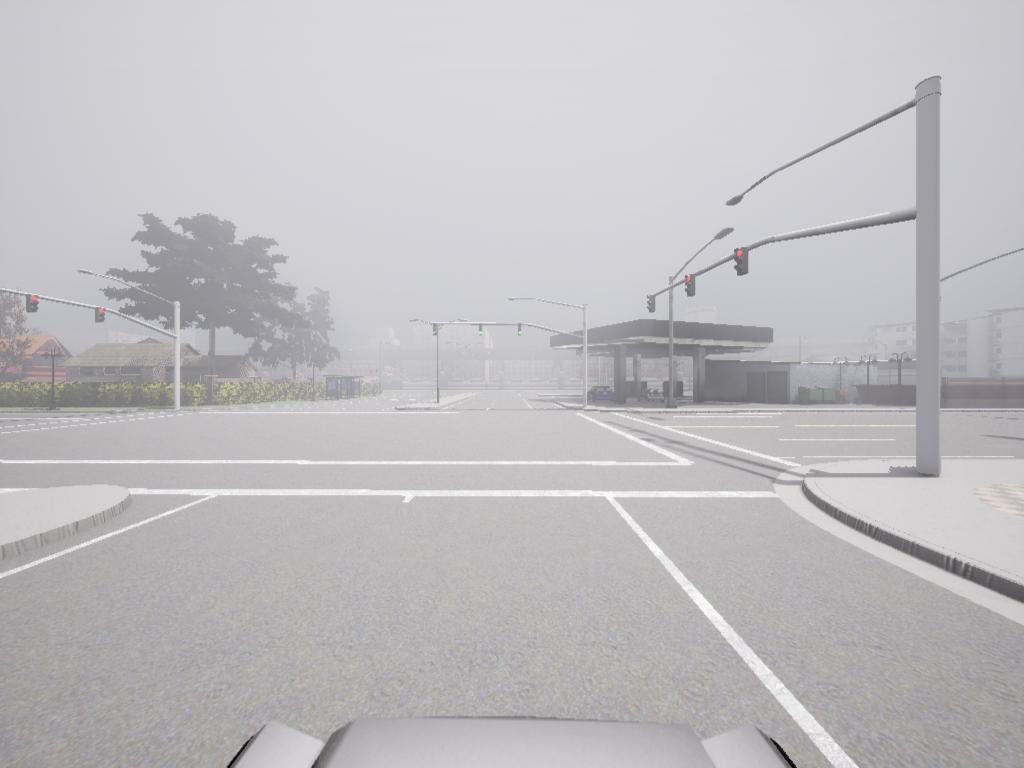traffic_light: (733, 250, 748, 277), (685, 274, 698, 297), (647, 295, 658, 314), (30, 295, 41, 312), (97, 310, 107, 325), (433, 324, 439, 336), (479, 326, 484, 339), (518, 325, 523, 336)
